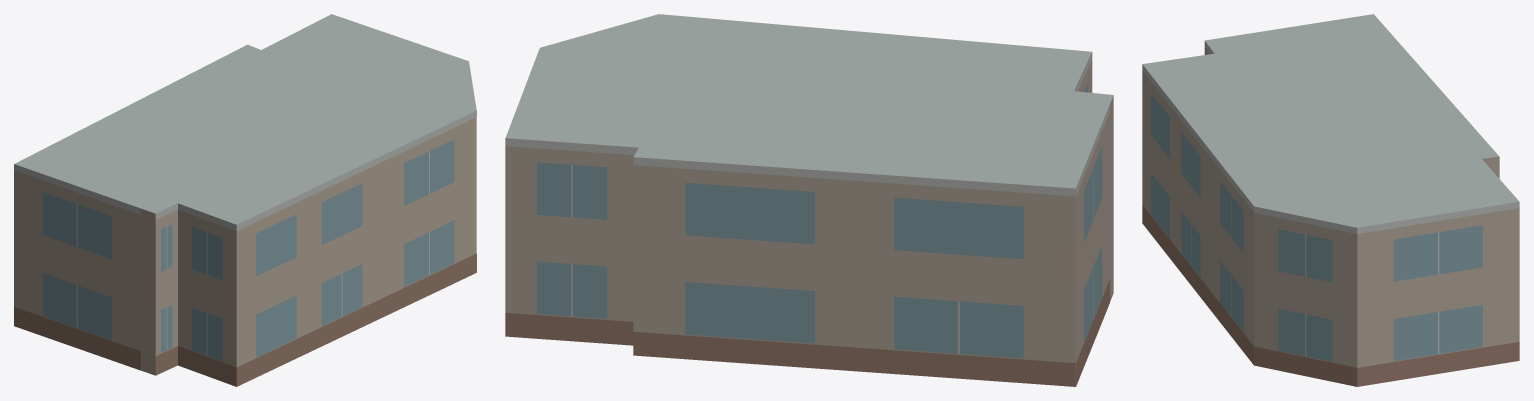
The model's file is survey-upis-32857152.glb.
3 renders of one model, left to right at view 1: azimuth 30°, elevation 25°; view 2: azimuth 150°, elevation 25°; view 3: azimuth 270°, elevation 25°, orthographic. The views are drawn at different scales.
Parts seen in each view (by area): view 1: survey-upis-32857152.tmp; view 2: survey-upis-32857152.tmp; view 3: survey-upis-32857152.tmp.
Part boxes in pixels (<box>): survey-upis-32857152.tmp: <box>14,14,476,386</box>; survey-upis-32857152.tmp: <box>505,14,1113,386</box>; survey-upis-32857152.tmp: <box>1142,14,1519,386</box>.
Size of the model in its own units: 17.59 by 6.1 by 13.12.
